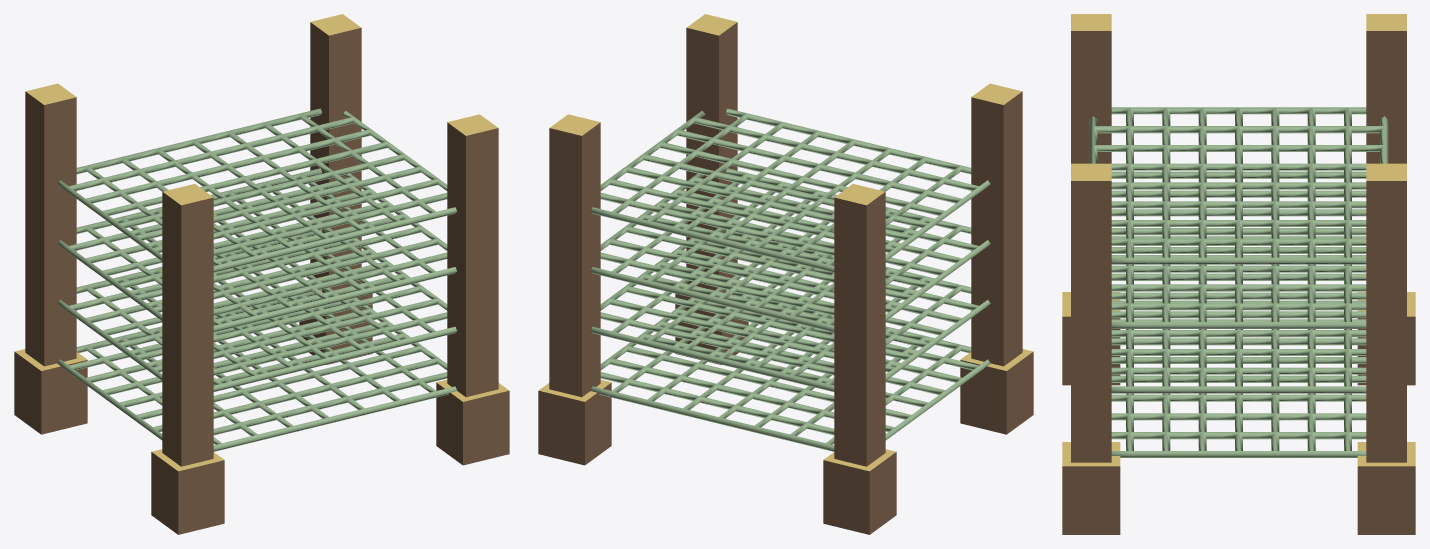
The model's file is Storage Mineral (v.1).fbx.
3 renders of one model, left to right at view 1: azimuth 30°, elevation 25°; view 2: azimuth 150°, elevation 25°; view 3: azimuth 270°, elevation 25°, orthographic. The views are drawn at different scales.
Parts seen in each view (by area): view 1: storage_mineral; view 2: storage_mineral; view 3: storage_mineral.
Part boxes in pixels (bbox=[...]): storage_mineral: bbox=[14, 14, 509, 534]; storage_mineral: bbox=[538, 14, 1033, 534]; storage_mineral: bbox=[1062, 14, 1415, 534].
Size of the model in its own units: 131 by 122 by 112.
